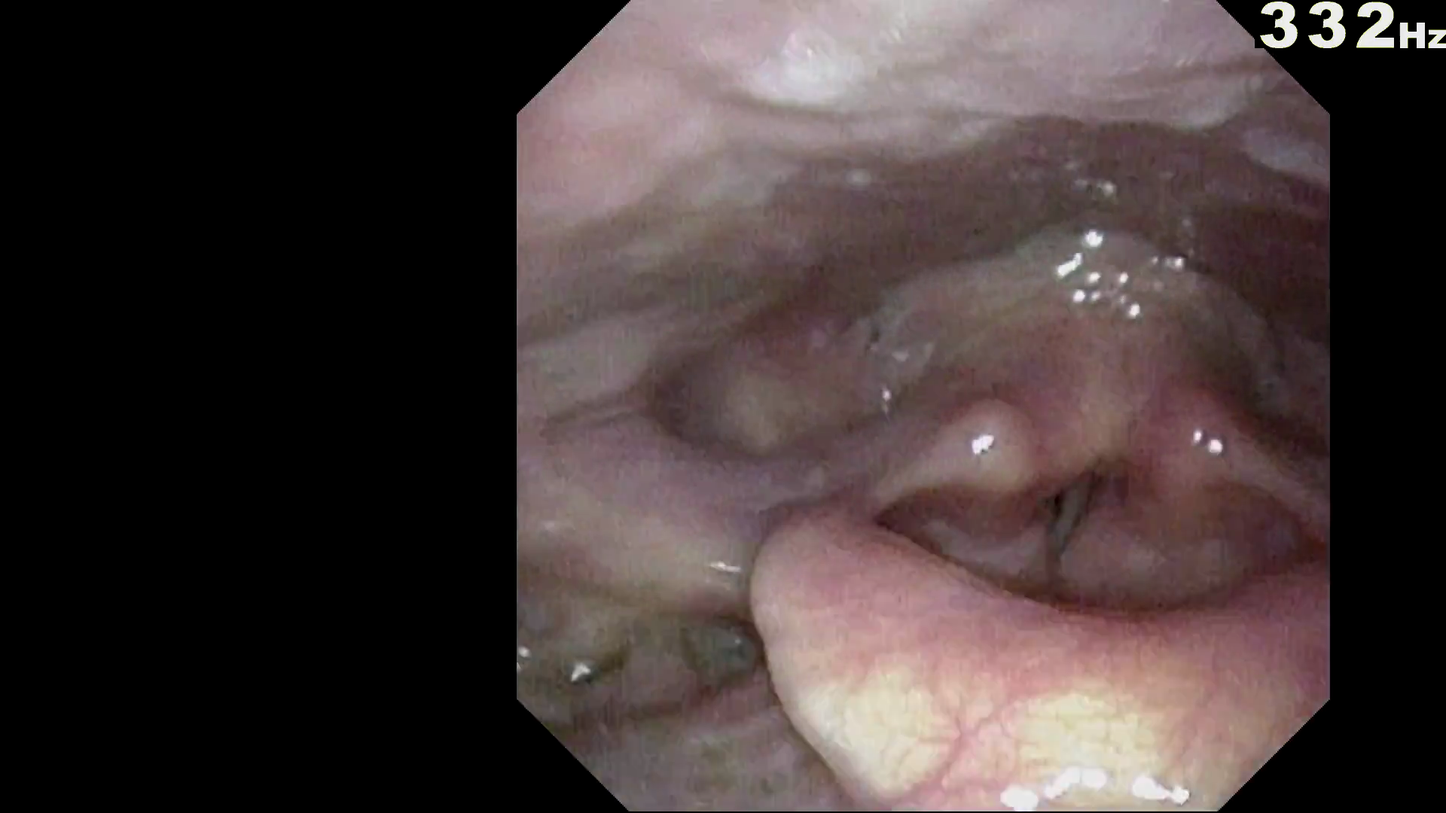epiglottis: (725, 433, 1315, 688), (702, 366, 1320, 592)
trachea: (1029, 412, 1150, 531)
